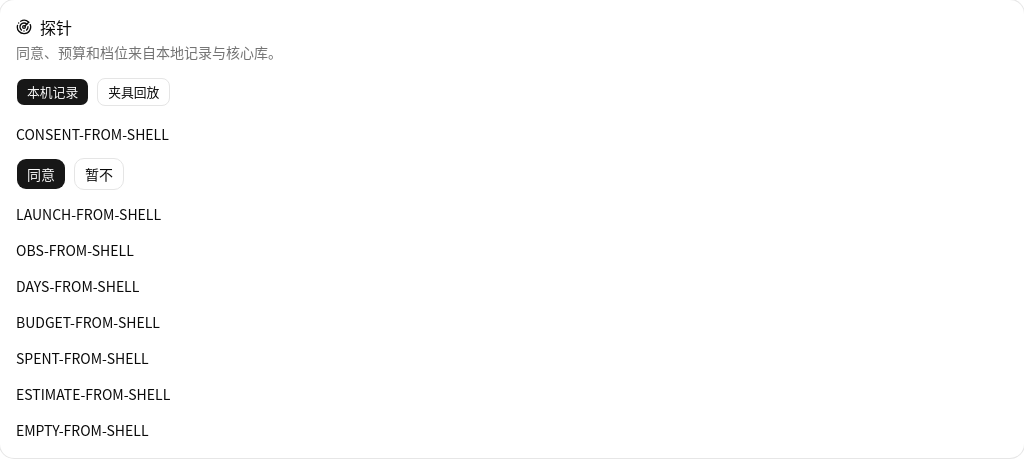
Test case: declining stores accepted false
Click the button "暂不" at (99,174), box left=74, top=158, right=124, bottom=190
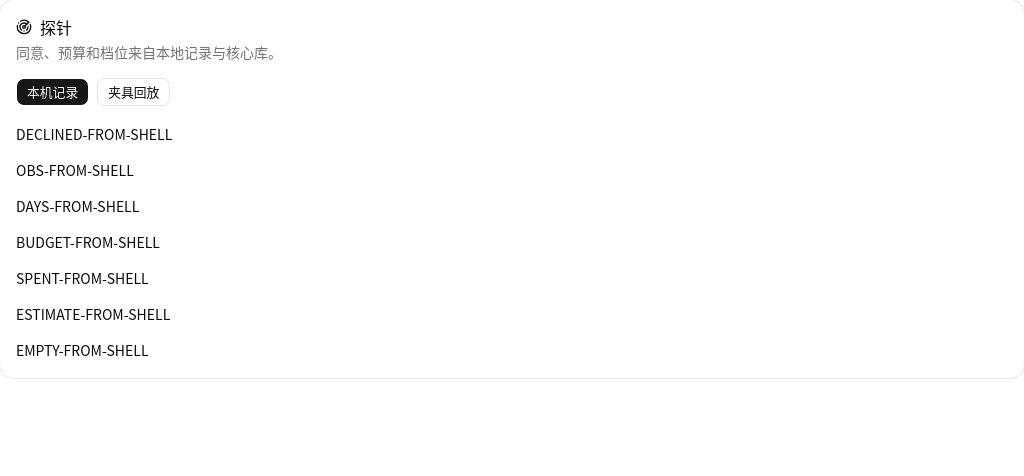
expect the text "DECLINED-FROM-SHELL" is shown: met, box left=16, top=124, right=172, bottom=144
